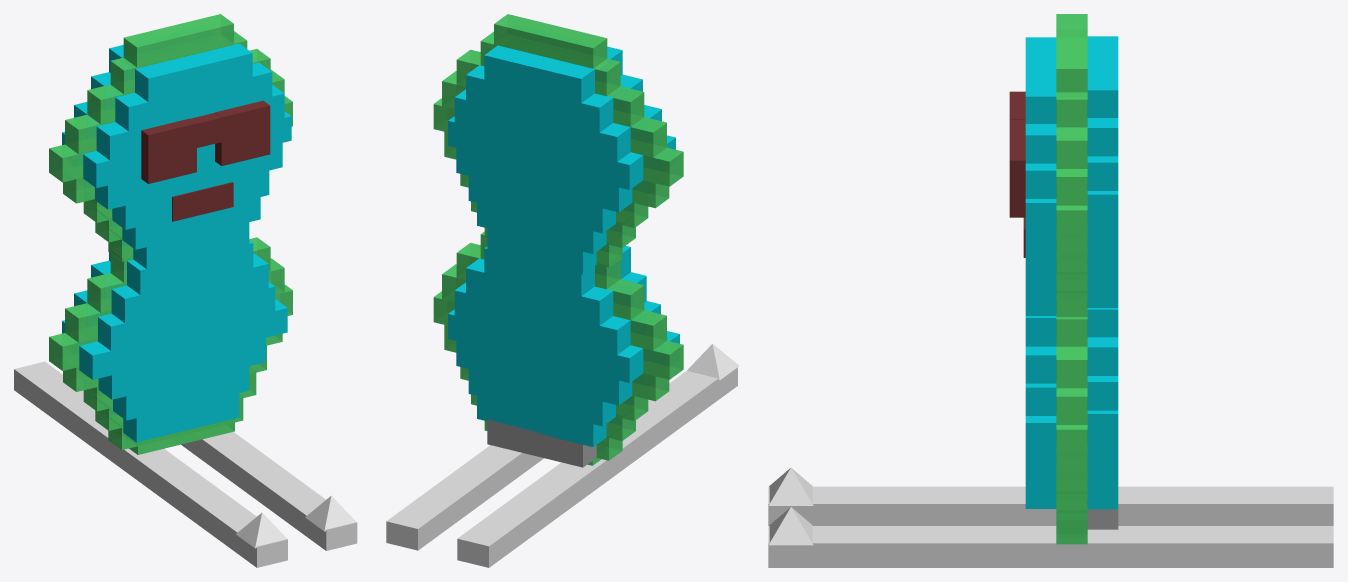
File: SkiGerm.fbx
The picture shows the model from 3 angles, left to right: view 1: azimuth 30°, elevation 25°; view 2: azimuth 150°, elevation 25°; view 3: azimuth 270°, elevation 25°; orthographic projection. The views are drawn at different scales.
Visible parts, largest first — view 1: polySurface3, polySurface2, pCube55, polySurface1, pCube56, pPyramid2, pPyramid1; view 2: polySurface3, polySurface2, pCube55, pCube56, pPyramid1; view 3: polySurface3, pCube56, pCube55, polySurface2, polySurface1, pPyramid2, pPyramid1.
Part boxes in pixels (left/top/right/bottom): polySurface3: left=62, top=43, right=291, bottom=442; polySurface2: left=49, top=14, right=292, bottom=454; pCube55: left=14, top=361, right=287, bottom=567; polySurface1: left=141, top=100, right=270, bottom=221; pCube56: left=181, top=432, right=357, bottom=550; pPyramid2: left=305, top=495, right=356, bottom=531; pPyramid1: left=236, top=512, right=288, bottom=548; polySurface3: left=448, top=45, right=679, bottom=467; polySurface2: left=433, top=14, right=683, bottom=465; pCube55: left=457, top=367, right=737, bottom=567; pCube56: left=386, top=445, right=543, bottom=550; pPyramid1: left=687, top=343, right=739, bottom=380; polySurface3: left=1025, top=36, right=1118, bottom=529; pCube56: left=768, top=526, right=1333, bottom=567; pCube55: left=768, top=486, right=1333, bottom=525; polySurface2: left=1056, top=14, right=1087, bottom=544; polySurface1: left=1009, top=91, right=1025, bottom=257; pPyramid2: left=768, top=507, right=813, bottom=545; pPyramid1: left=768, top=467, right=813, bottom=505.
Bounding box in the file's own units: 9.88 × 17.56 × 18.03.
